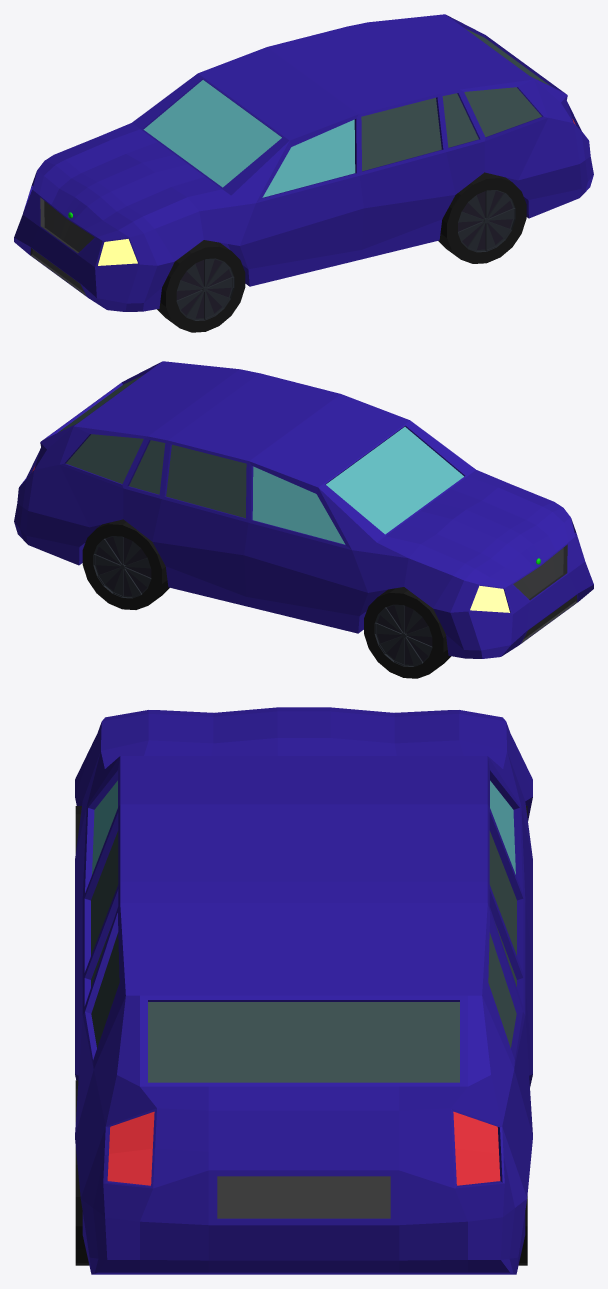
Rendered from masinaIuliana.fbx.
The picture shows the model from 3 angles, top to bottom: view 1: azimuth 30°, elevation 25°; view 2: azimuth 150°, elevation 25°; view 3: azimuth 270°, elevation 25°; orthographic projection. The views are drawn at different scales.
Visible parts, largest first — view 1: mASINAiULIANA, ROATA; view 2: mASINAiULIANA, ROATA; view 3: mASINAiULIANA, ROATA.
Part boxes in pixels (<box>): mASINAiULIANA: <box>14,14,593,311</box>; ROATA: <box>157,172,526,332</box>; mASINAiULIANA: <box>14,361,593,658</box>; ROATA: <box>82,519,450,678</box>; mASINAiULIANA: <box>75,707,532,1274</box>; ROATA: <box>75,806,527,1265</box>.
Bounding box in the file's own units: 334 × 110 × 134.
